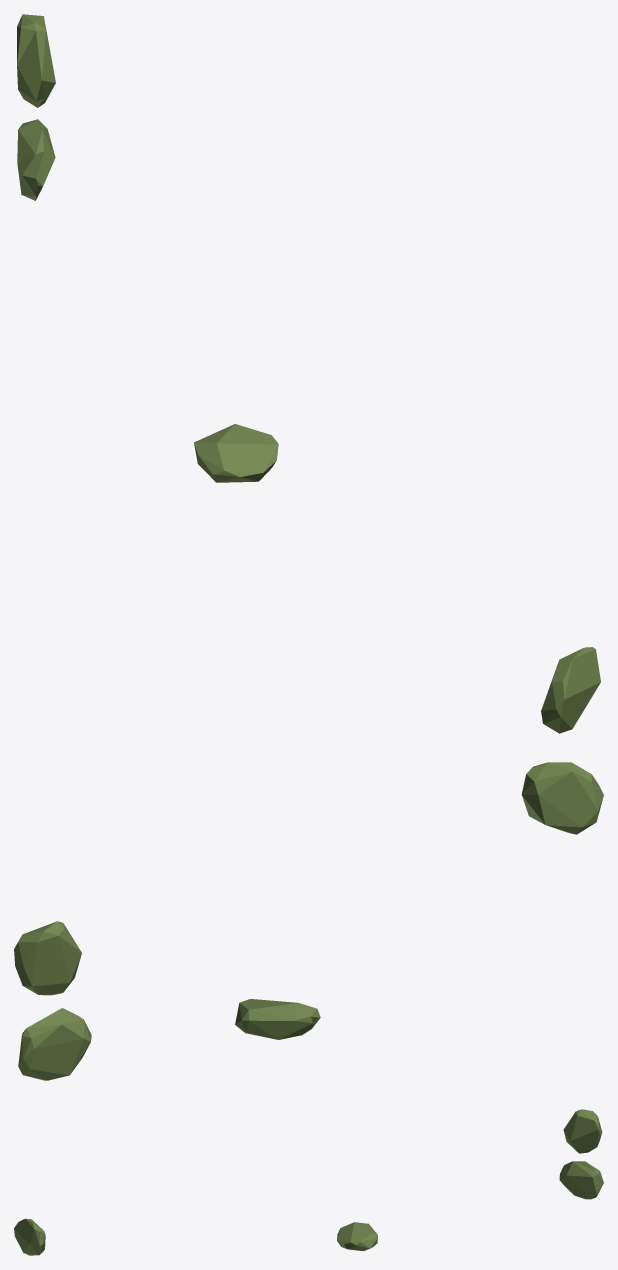
3 views of the same model, one above another, from view 1: azimuth 30°, elevation 25°; view 2: azimuth 150°, elevation 25°; view 3: azimuth 270°, elevation 25° (orthographic). The views are drawn at different scales.
Visible parts, largest first — view 1: Box645_green3_0, Box091_green3_0, Box699_green3_0, Box697_green3_0; view 2: Box091_green3_0, Box697_green3_0, Box699_green3_0, Box645_green3_0; view 3: Box699_green3_0, Box697_green3_0, Box645_green3_0, Box091_green3_0.
Boxes of the visible parts, x1,y1,x2,y2 form: Box645_green3_0: (194, 424, 278, 482); Box091_green3_0: (541, 647, 600, 733); Box699_green3_0: (17, 14, 55, 107); Box697_green3_0: (17, 119, 55, 200); Box091_green3_0: (521, 762, 603, 834); Box697_green3_0: (18, 1008, 91, 1080); Box699_green3_0: (14, 921, 81, 995); Box645_green3_0: (235, 999, 320, 1039); Box699_green3_0: (563, 1109, 602, 1153); Box697_green3_0: (559, 1161, 603, 1199); Box645_green3_0: (337, 1222, 377, 1250); Box091_green3_0: (14, 1218, 45, 1255).
Bounding box in the file's own units: 83.18 × 266 × 945.
